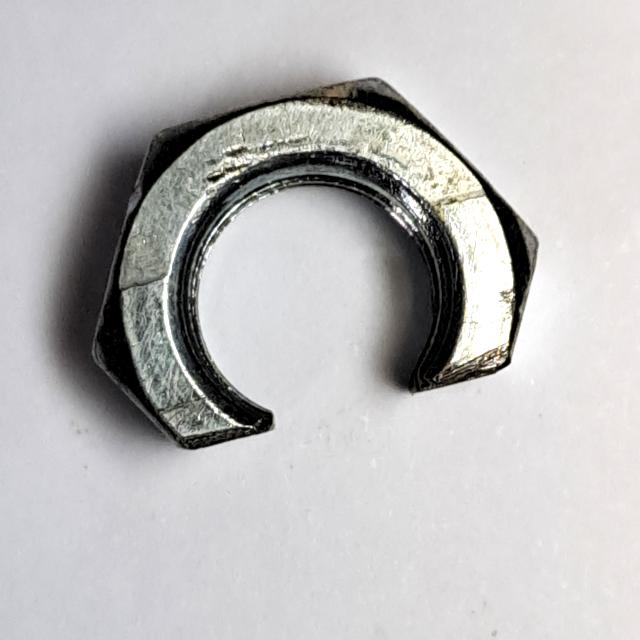Fracture: (66, 66, 553, 472)
